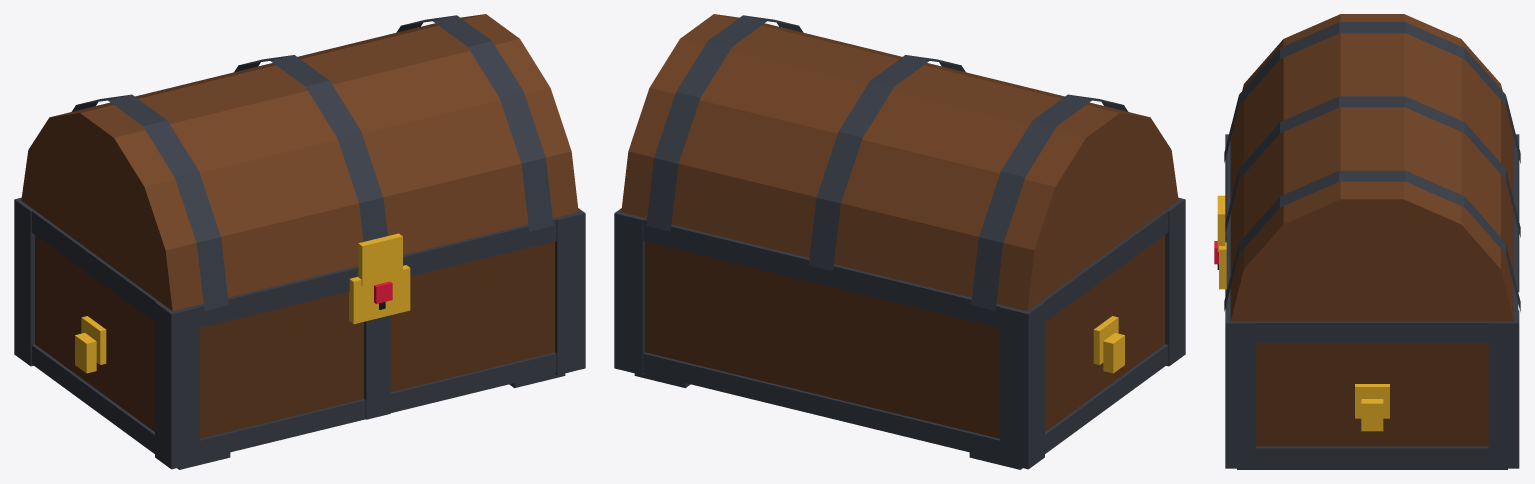
Rendered from treasure_chest.obj.
The picture shows the model from 3 angles, left to right: view 1: azimuth 30°, elevation 25°; view 2: azimuth 150°, elevation 25°; view 3: azimuth 270°, elevation 25°; orthographic projection. The views are drawn at different scales.
Visible parts, largest first — view 1: Lid_Body, Base_Body, Base_Armor, Lid_Straps, Lid_Caps, Lock_Plate, Lid_Latch, Side_Handles; view 2: Lid_Body, Base_Body, Base_Armor, Lid_Straps, Lid_Caps, Side_Handles; view 3: Lid_Body, Lid_Caps, Base_Body, Base_Armor, Lid_Straps, Side_Handles, Base_Feet, Lid_Latch, Lock_Plate.
Boxes of the visible parts, box(x1,y1,x2,y2) form: Lid_Body: box(50, 14, 578, 310); Base_Body: box(35, 235, 554, 438); Base_Armor: box(14, 197, 585, 469); Lid_Straps: box(71, 15, 553, 310); Lid_Caps: box(21, 113, 172, 310); Lock_Plate: box(349, 265, 410, 324); Lid_Latch: box(358, 233, 402, 286); Side_Handles: box(75, 316, 106, 373); Lid_Body: box(621, 14, 1149, 310); Base_Body: box(645, 235, 1164, 438); Base_Armor: box(614, 197, 1185, 469); Lid_Straps: box(646, 15, 1128, 310); Lid_Caps: box(1027, 113, 1178, 310); Side_Handles: box(1093, 316, 1124, 373); Lid_Body: box(1230, 14, 1513, 320); Lid_Caps: box(1231, 199, 1513, 321); Base_Body: box(1256, 342, 1488, 446); Base_Armor: box(1225, 134, 1519, 468); Lid_Straps: box(1224, 22, 1520, 311); Side_Handles: box(1355, 384, 1389, 431); Base_Feet: box(1237, 466, 1507, 469); Lid_Latch: box(1217, 195, 1225, 251); Lock_Plate: box(1219, 242, 1226, 289).
Bounding box in the file's own units: 2.16 × 1.41 × 1.4.
